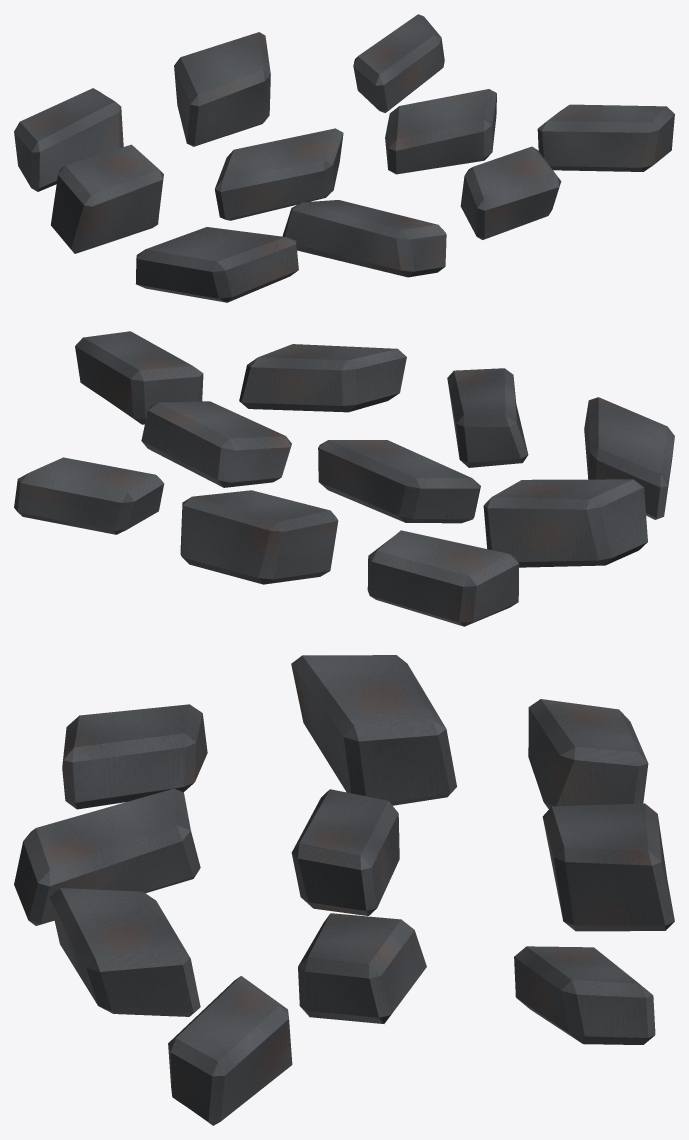
Rendered from ShotgunScrapBuckshot.glb.
3 renders of one model, top to bottom at view 1: azimuth 30°, elevation 25°; view 2: azimuth 150°, elevation 25°; view 3: azimuth 270°, elevation 25°, orthographic. The views are drawn at different scales.
Visible parts, largest first — view 1: ShotgunScrapBuckshot; view 2: ShotgunScrapBuckshot; view 3: ShotgunScrapBuckshot.
Part boxes in pixels (x1,y1,x2,y2): ShotgunScrapBuckshot: (14, 14, 674, 302); ShotgunScrapBuckshot: (14, 331, 674, 626); ShotgunScrapBuckshot: (14, 655, 674, 1125).
Size of the model in its own units: 0.0288 by 0.00361 by 0.0205.
1 material, 1 textured.
